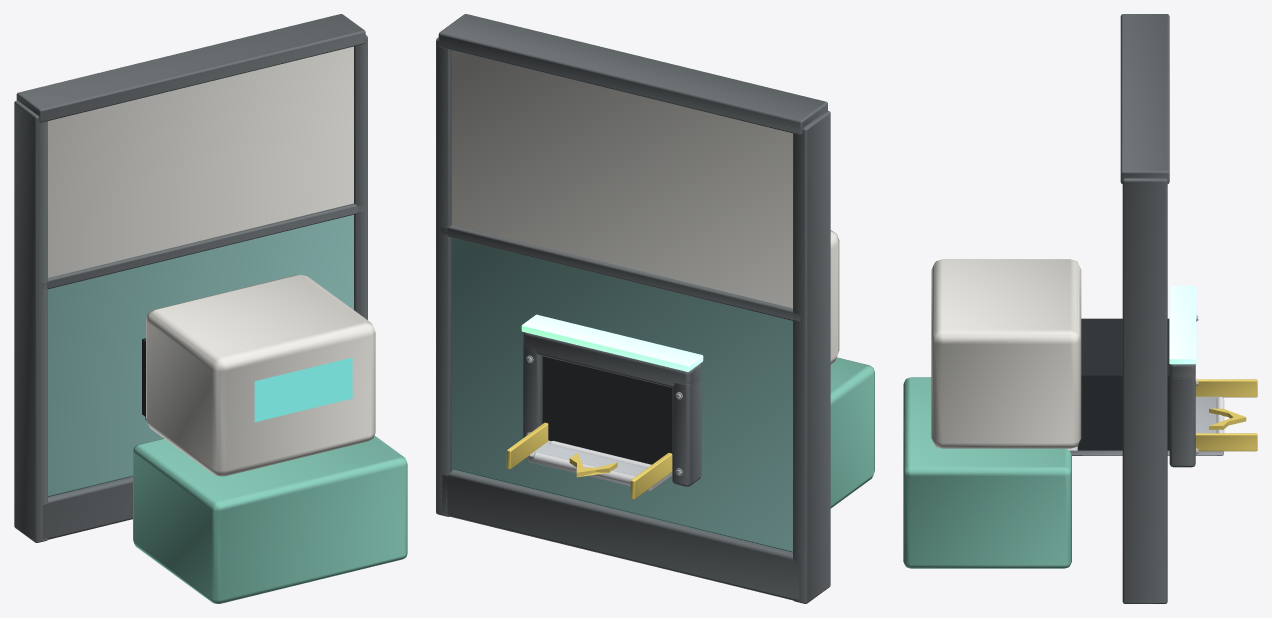
File: sala_buzon.glb
3 views of the same model, side by side, from view 1: azimuth 30°, elevation 25°; view 2: azimuth 150°, elevation 25°; view 3: azimuth 270°, elevation 25° (orthographic). The views are drawn at different scales.
Visible parts, largest first — view 1: pared_alta, buzon_caja, buzon_tolva, pared_panel, pared_perfil-0.49, pared_remate, pantalla, pared_zocalo, pared_perfil0.49, pared_canto; view 2: pared_alta, pared_panel, pared_perfil-0.49, pared_zocalo, pared_remate, buzon_hueco, pared_perfil0.49, buzon_caja, pared_canto, buzon_franja, buzon_marco_sup, buzon_marco_lat1 (+6 smaller); view 3: buzon_tolva, buzon_caja, pared_perfil0.49, pared_remate, buzon_hueco, buzon_marco_lat-1, buzon_franja, buzon_bandeja, buzon_guia-1, buzon_guia1.
Boxes of the visible parts, x1,y1,x2,y2 form: pared_alta: (48, 46, 353, 277); buzon_caja: (133, 436, 407, 603); buzon_tolva: (146, 275, 375, 476); pared_panel: (48, 214, 353, 497); pared_perfil-0.49: (14, 100, 47, 542); pared_remate: (16, 14, 365, 122); pantalla: (254, 357, 352, 422); pared_zocalo: (42, 476, 132, 539); pared_perfil0.49: (354, 35, 367, 319); pared_canto: (41, 203, 363, 289); pared_alta: (451, 50, 792, 308); pared_panel: (451, 238, 792, 552); pared_perfil-0.49: (793, 110, 830, 603); pared_zocalo: (442, 470, 799, 600); pared_remate: (438, 14, 827, 134); buzon_hueco: (542, 356, 672, 464); pared_perfil0.49: (436, 37, 452, 516); buzon_caja: (830, 357, 874, 508); pared_canto: (441, 225, 800, 321); buzon_franja: (521, 314, 703, 371); buzon_marco_sup: (523, 332, 701, 387); buzon_marco_lat1: (672, 375, 701, 486); buzon_tolva: (931, 259, 1081, 448); buzon_caja: (903, 377, 1071, 568); pared_perfil0.49: (1122, 178, 1167, 603); pared_remate: (1120, 14, 1169, 183); buzon_hueco: (1077, 318, 1169, 450); buzon_marco_lat-1: (1169, 375, 1195, 467); buzon_franja: (1169, 286, 1196, 364); buzon_bandeja: (1067, 396, 1223, 455); buzon_guia-1: (1195, 433, 1257, 451); buzon_guia1: (1195, 379, 1257, 397).
Bounding box in the file's own units: 1.02 × 1.27 × 0.945.
